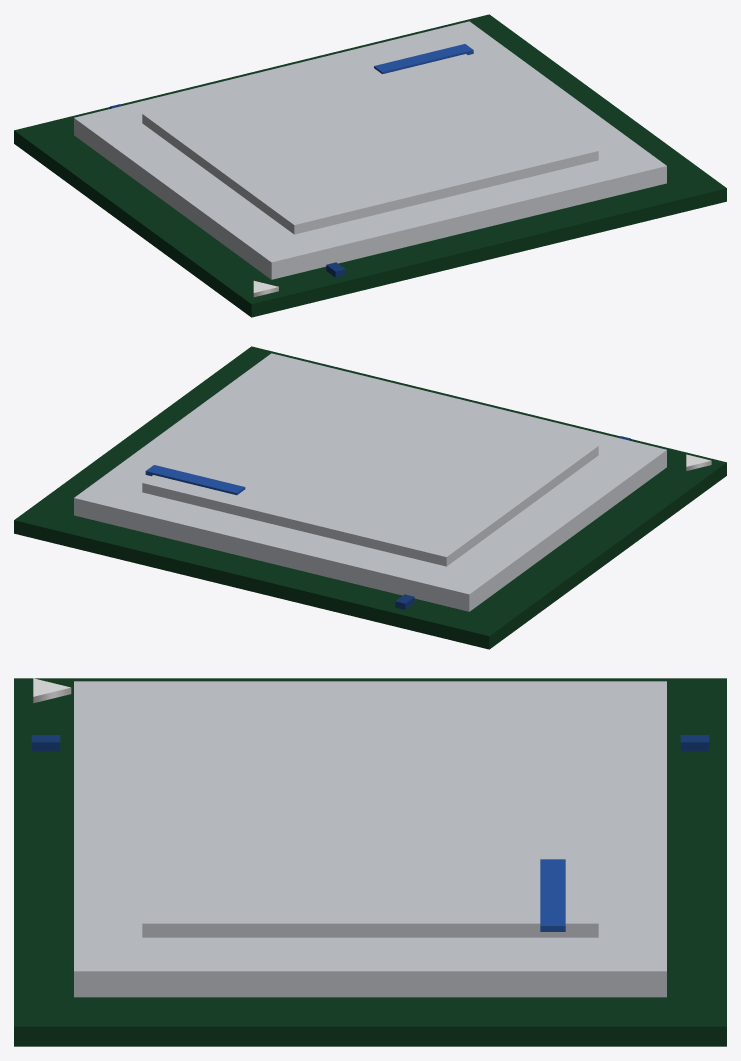
Rendered from hw_cpu_xeon_silver_4314.glb.
3 renders of one model, top to bottom at view 1: azimuth 30°, elevation 25°; view 2: azimuth 150°, elevation 25°; view 3: azimuth 270°, elevation 25°, orthographic. The views are drawn at different scales.
Parts seen in each view (by area): view 1: Body; view 2: Body; view 3: Body.
Part boxes in pixels (left/top/right/bottom): Body: left=14, top=14, right=726, bottom=317; Body: left=14, top=346, right=726, bottom=649; Body: left=14, top=678, right=726, bottom=1046.
Size of the model in its own units: 0.052 by 0.00467 by 0.045.
